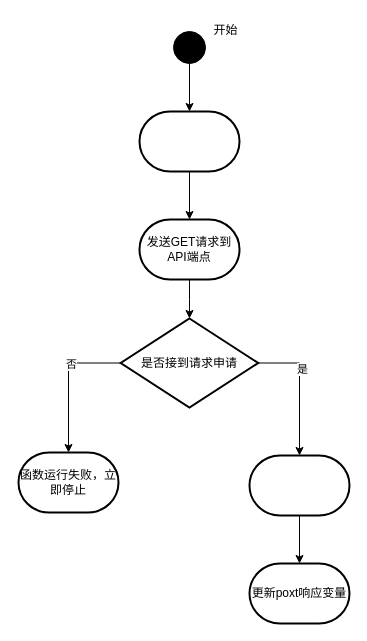
Some shapes in this 367 by 641 pixel diagram are drawn without their labels. Here are the shapes that lost their labels. From the top down, the centre of each, then its label:
At [189,141]: "设置请求头".
At [299,485]: "将数据映射成Post接口格式".
